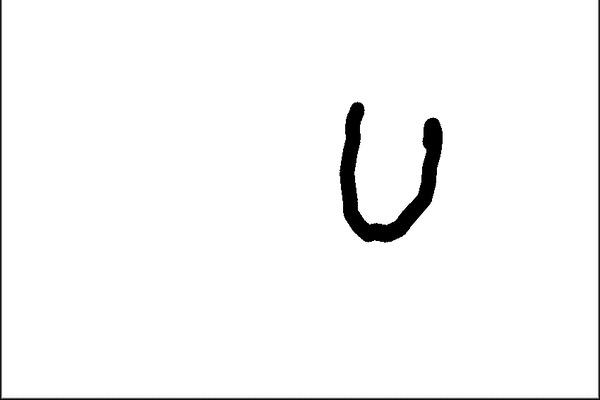U: (326, 89, 448, 262)
